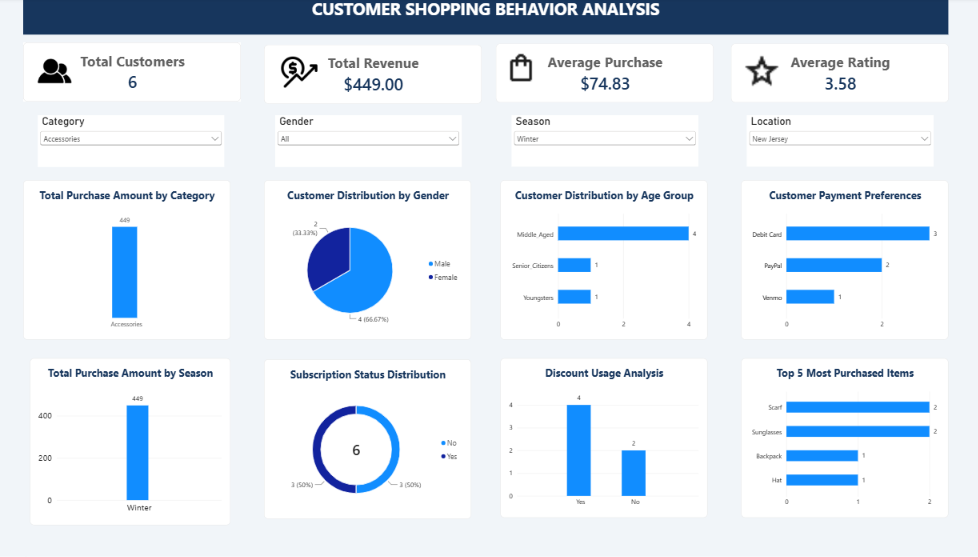

The dashboard page shown, as its layout file describes it:
{"tool":"powerbi","page":{"name":"Page 1","canvas":[1920,1080],"ordinal":0},"visuals":[{"type":"cardVisual","fields":{"Data":["customer_shopping.Total Customers"]},"box":[64.9,86.5,420,114.6],"z":0},{"type":"cardVisual","fields":{"Data":["customer_shopping.Average Purchase"]},"box":[977.1,88.6,420,114.6],"z":1000},{"type":"cardVisual","fields":{"Data":["customer_shopping.Total Revenue Display"]},"box":[529.6,90.8,420,114.6],"z":2000},{"type":"clusteredColumnChart","title":"Total Purchase Amount by Category","fields":{"Category":["customer_shopping.category"],"Y":["customer_shopping.Total Revenue"]},"box":[64,352,400,308],"z":3000},{"type":"pieChart","title":"Customer Distribution by Gender","fields":{"Category":["customer_shopping.gender"],"Y":["customer_shopping.Total Customers"]},"box":[529.6,352.4,400,308],"z":4000},{"type":"clusteredBarChart","title":"Customer Distribution by Age Group","fields":{"Category":["customer_shopping.age_bucket"],"Y":["customer_shopping.Total Customers"]},"box":[985.8,352.4,400,308],"z":5000},{"type":"clusteredBarChart","title":"Customer Payment Preferences","fields":{"Category":["customer_shopping.payment_method"],"Y":["customer_shopping.Total Customers"]},"box":[1450.6,352.4,400,308],"z":6000},{"type":"clusteredColumnChart","title":"Total Purchase Amount by Season","fields":{"Category":["customer_shopping.season"],"Y":["customer_shopping.Total Revenue"]},"box":[77.8,696.1,387,322.1],"z":7000},{"type":"donutChart","title":"Subscription Status Distribution","fields":{"Category":["customer_shopping.subscription_status"],"Y":["customer_shopping.Total Customers"]},"box":[529.6,698.3,400,308],"z":8000},{"type":"clusteredColumnChart","title":"Discount Usage Analysis","fields":{"Category":["customer_shopping.discount_applied"],"Y":["customer_shopping.Total Customers"]},"box":[985.8,696.1,400,308],"z":9000},{"type":"clusteredBarChart","title":"Top 5 Most Purchased Items","fields":{"Category":["customer_shopping.item_purchased"],"Y":["customer_shopping.Total Customers"]},"box":[1450.6,696.1,400,308],"z":10000},{"type":"slicer","fields":{"Values":["customer_shopping.category"]},"box":[93,227,360,100],"z":11000},{"type":"slicer","fields":{"Values":["customer_shopping.gender"]},"box":[551.3,227,360,100],"z":12000},{"type":"slicer","fields":{"Values":["customer_shopping.season"]},"box":[1007.4,227,361,99.4],"z":13000},{"type":"slicer","fields":{"Values":["customer_shopping.location"]},"box":[1461.4,227,361,99.4],"z":14000},{"type":"textbox","box":[64.9,0,1785.7,71.3],"z":15000},{"type":"cardVisual","fields":{"Data":["customer_shopping.Average Rating"]},"box":[1431.1,88.6,420,114.6],"z":16000},{"type":"image","box":[551.3,103.8,93,80],"z":17000},{"type":"image","box":[985.8,103.8,80,62.7],"z":18000},{"type":"image","box":[1450.6,103.8,80,75.7],"z":19000},{"type":"image","box":[93,101.6,64.9,80],"z":20000}]}

Visuals, with their boxes in screenshot pixels (x1, y1, x2, y2), scaled from the page's 1920x1080 canvas onto the 978x557 screenshot:
cardVisual - customer_shopping.Total Customers: bbox(33, 45, 247, 104)
cardVisual - customer_shopping.Average Purchase: bbox(498, 46, 712, 105)
cardVisual - customer_shopping.Total Revenue Display: bbox(270, 47, 484, 106)
"Total Purchase Amount by Category" clusteredColumnChart: bbox(33, 182, 236, 340)
"Customer Distribution by Gender" pieChart: bbox(270, 182, 474, 341)
"Customer Distribution by Age Group" clusteredBarChart: bbox(502, 182, 706, 341)
"Customer Payment Preferences" clusteredBarChart: bbox(739, 182, 943, 341)
"Total Purchase Amount by Season" clusteredColumnChart: bbox(40, 359, 237, 525)
"Subscription Status Distribution" donutChart: bbox(270, 360, 474, 519)
"Discount Usage Analysis" clusteredColumnChart: bbox(502, 359, 706, 518)
"Top 5 Most Purchased Items" clusteredBarChart: bbox(739, 359, 943, 518)
slicer - customer_shopping.category: bbox(47, 117, 231, 169)
slicer - customer_shopping.gender: bbox(281, 117, 464, 169)
slicer - customer_shopping.season: bbox(513, 117, 697, 168)
slicer - customer_shopping.location: bbox(744, 117, 928, 168)
textbox: bbox(33, 0, 943, 37)
cardVisual - customer_shopping.Average Rating: bbox(729, 46, 943, 105)
image: bbox(281, 54, 328, 95)
image: bbox(502, 54, 543, 86)
image: bbox(739, 54, 780, 93)
image: bbox(47, 52, 80, 94)
